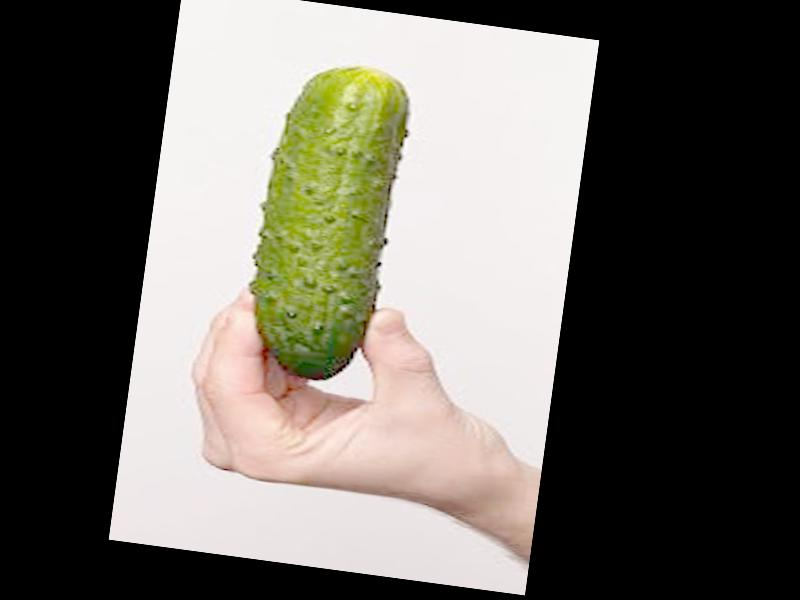Cucumber: (240, 57, 404, 387)
